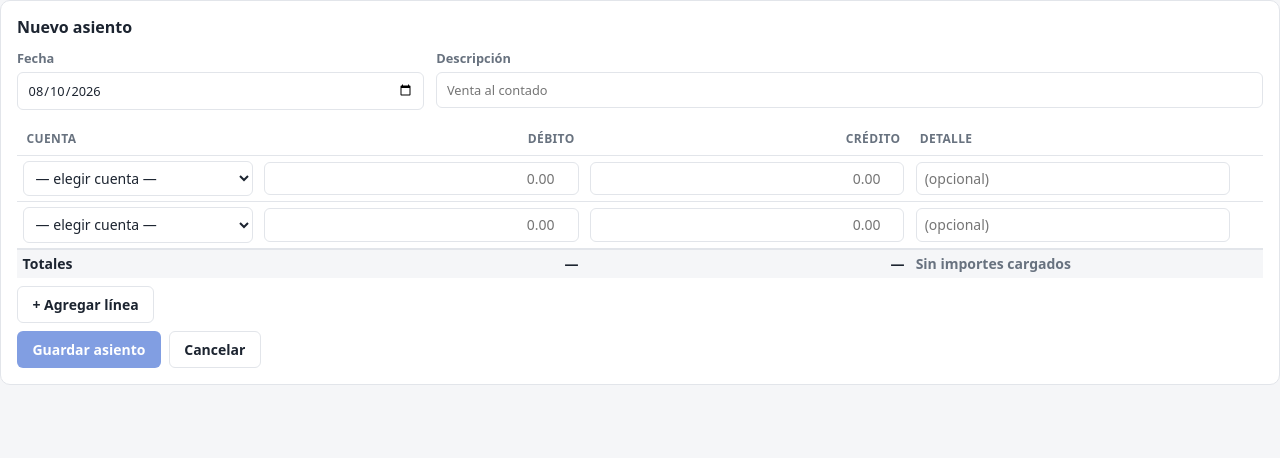
AsientoNuevo › muestra el error del backend y no avisa al padre
Type "Prueba" into the field with placeholder "Venta al contado". click: (850, 90)
box: [436, 72, 1263, 108]
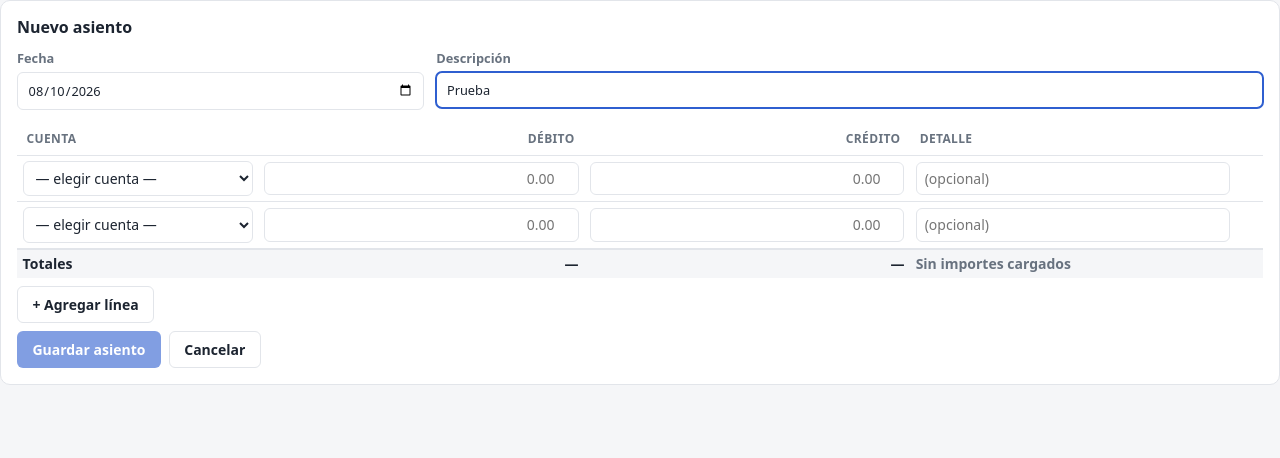
Select "1.1.01 — Caja" in the 1st dropdown. click: (138, 178)
box: [23, 161, 253, 196]
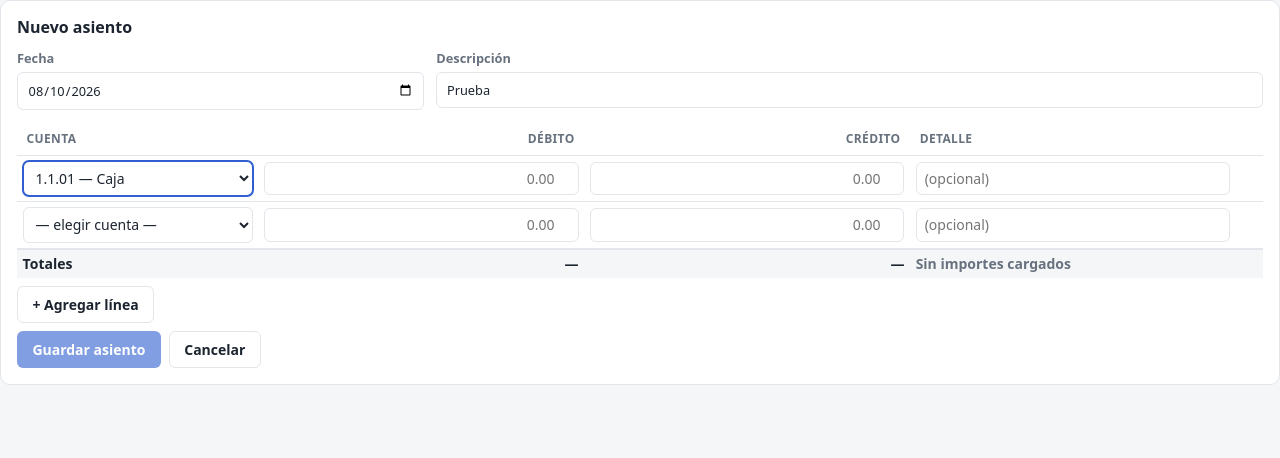
Type "50" into the 1st number field with placeholder "0.00". click: (421, 178)
box: [264, 162, 579, 195]
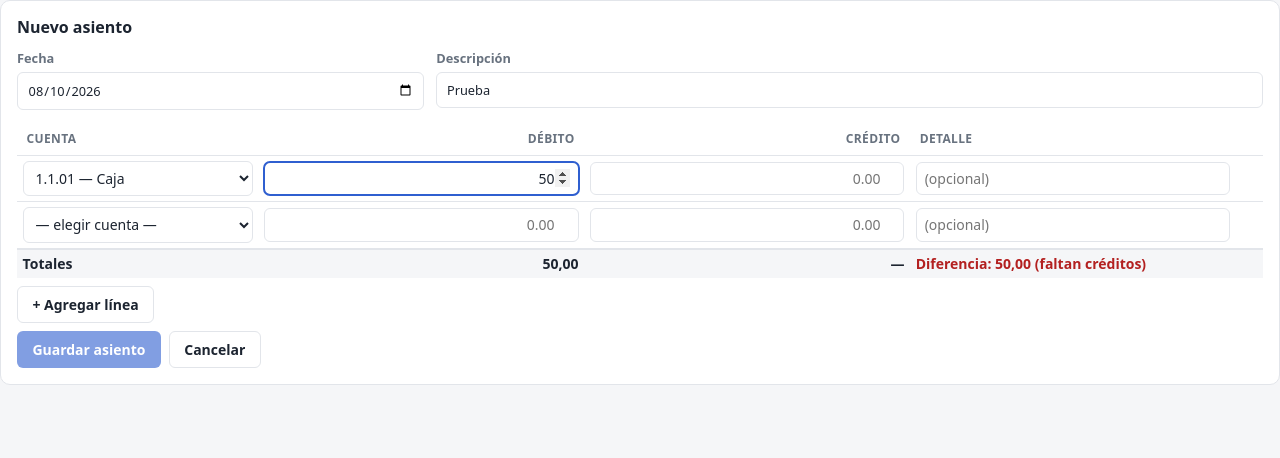
Select "3.1.01 — Capital" in the 2nd dropdown. click: (138, 225)
box: [23, 207, 253, 243]
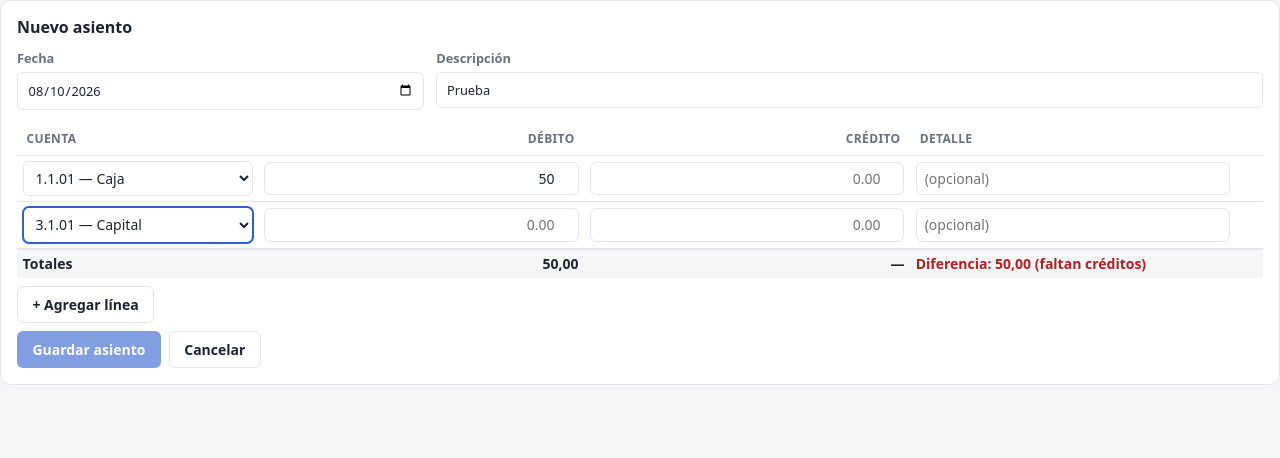
Type "50" into the 3rd number field with placeholder "0.00". click: (747, 225)
box: [590, 208, 904, 242]
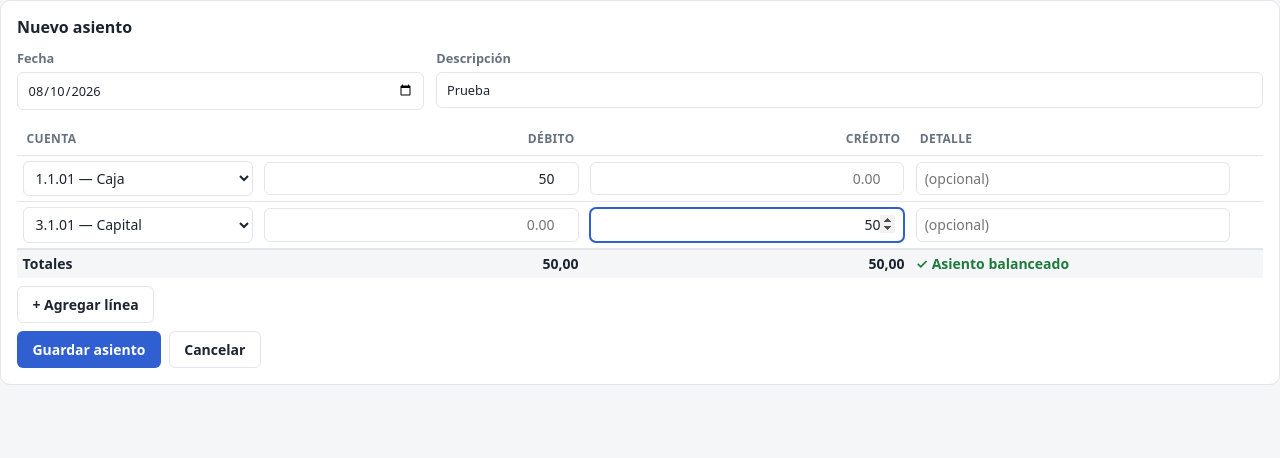
Click the button "Guardar asiento". click: (89, 350)
box: [17, 331, 161, 368]
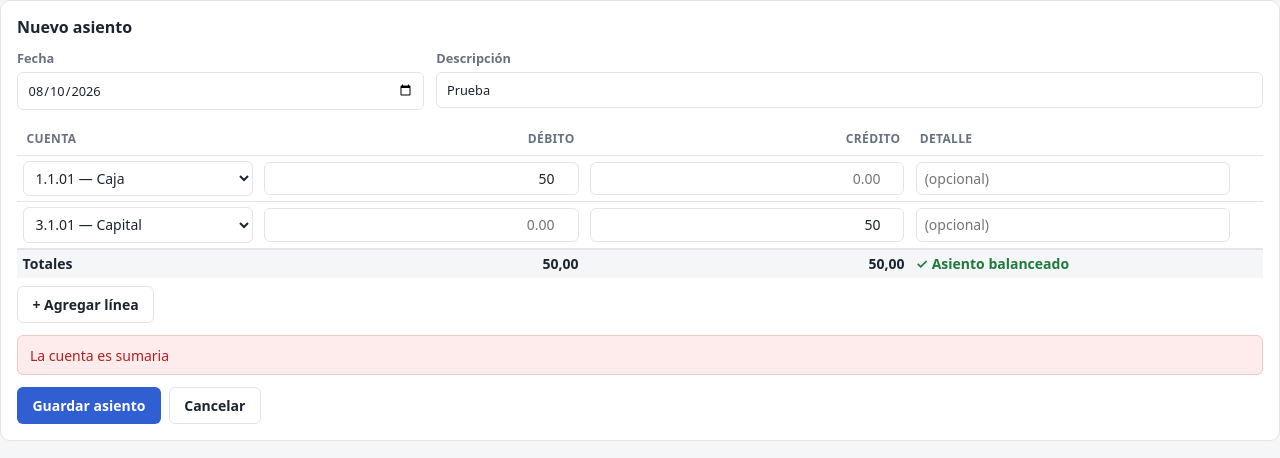
Check: the text "La cuenta es sumaria" is shown, box [17, 335, 1263, 375]
